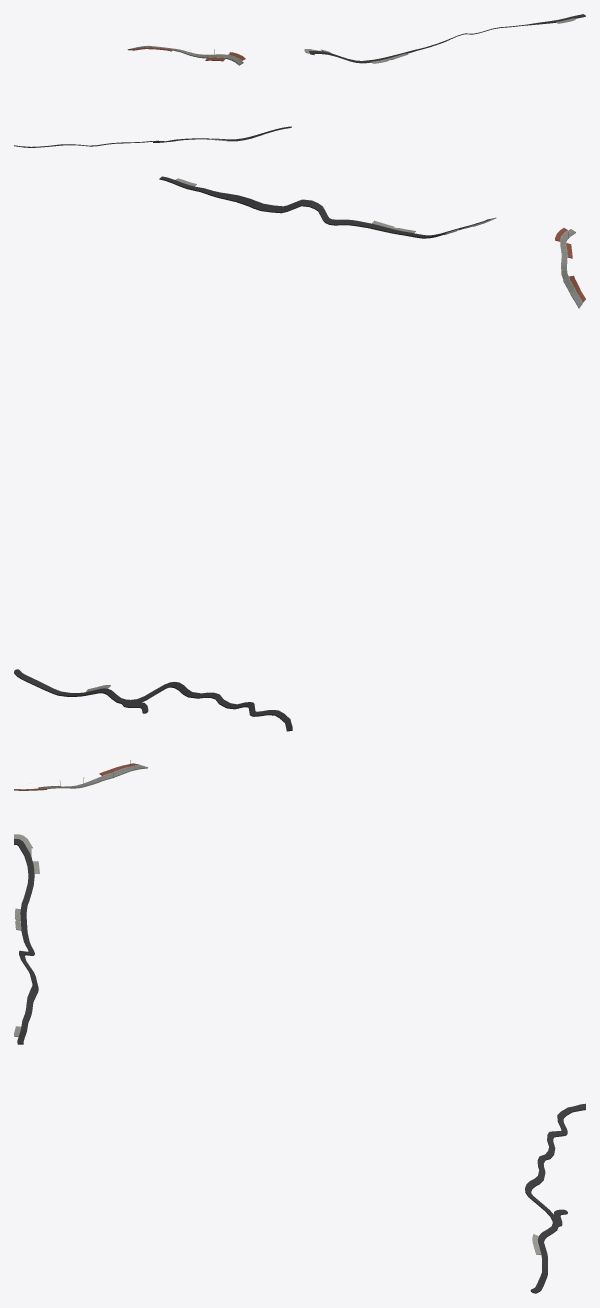
The picture shows the model from 3 angles, top to bottom: view 1: azimuth 30°, elevation 25°; view 2: azimuth 150°, elevation 25°; view 3: azimuth 270°, elevation 25°; orthographic projection. The views are drawn at different scales.
Size of the model in its own units: 590 by 403 by 583.
